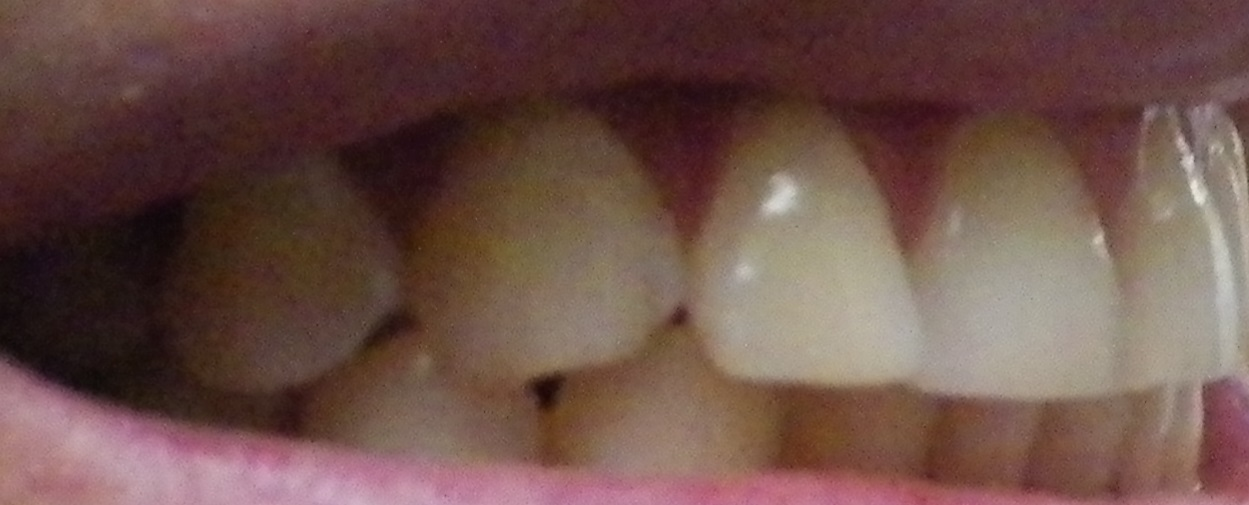boca: (70, 103, 1246, 457)
